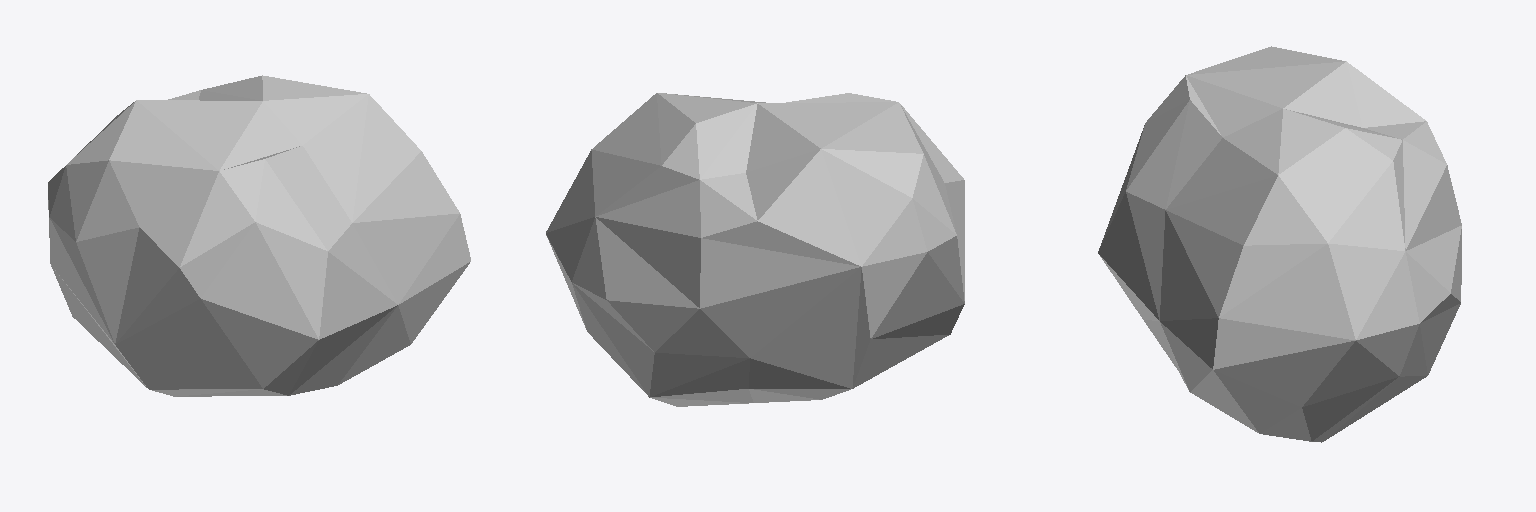
File: Rock_001.obj
3 views of the same model, side by side, from view 1: azimuth 30°, elevation 25°; view 2: azimuth 150°, elevation 25°; view 3: azimuth 270°, elevation 25° (orthographic).
Visible parts, largest first — view 1: pPlatonic1; view 2: pPlatonic1; view 3: pPlatonic1.
Boxes of the visible parts, box(x1,y1,x2,y2) form: pPlatonic1: box(48, 75, 470, 396); pPlatonic1: box(546, 93, 964, 406); pPlatonic1: box(1098, 46, 1461, 442).
Bounding box in the file's own units: 2.47 × 1.95 × 2.11.